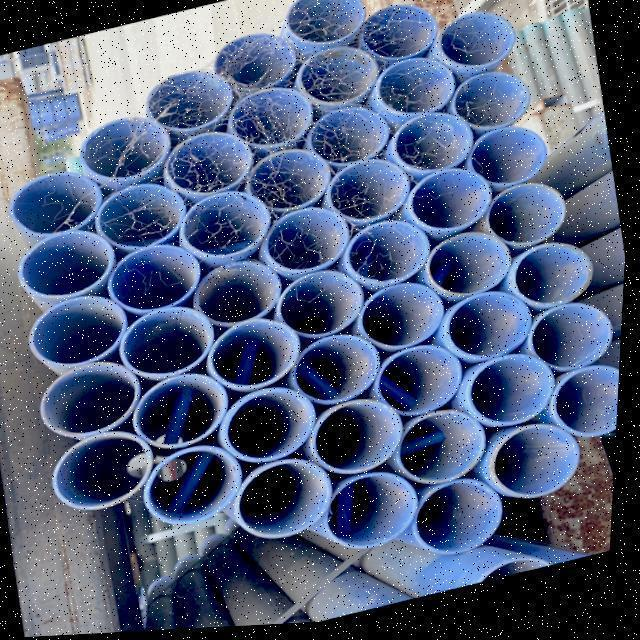pipe: (237, 456, 339, 545), (19, 225, 121, 312), (44, 359, 146, 438), (79, 114, 172, 200), (55, 435, 155, 514), (30, 296, 129, 375), (124, 305, 224, 382), (149, 450, 245, 530), (417, 484, 511, 565), (223, 389, 320, 467), (377, 340, 466, 425), (494, 428, 587, 509), (315, 402, 409, 482), (328, 476, 422, 556), (461, 359, 557, 437), (107, 241, 204, 317), (10, 166, 105, 243), (209, 319, 305, 394), (236, 149, 331, 224), (401, 415, 491, 494), (291, 336, 381, 414), (273, 270, 363, 345), (143, 375, 231, 451), (260, 206, 354, 277), (448, 293, 538, 367), (94, 181, 189, 251), (182, 192, 275, 263), (359, 285, 449, 358), (196, 264, 289, 334), (340, 222, 431, 293), (424, 230, 513, 301), (165, 132, 256, 201), (533, 309, 619, 381), (405, 174, 496, 241), (210, 29, 297, 99), (148, 68, 240, 134), (326, 159, 412, 229), (228, 87, 316, 155), (507, 250, 595, 317), (466, 130, 551, 196), (290, 47, 379, 110), (371, 55, 457, 120), (490, 187, 571, 255), (307, 108, 393, 172), (393, 115, 479, 179), (452, 76, 536, 137), (353, 4, 441, 62), (556, 372, 623, 447), (437, 15, 518, 76), (281, 0, 370, 48)
